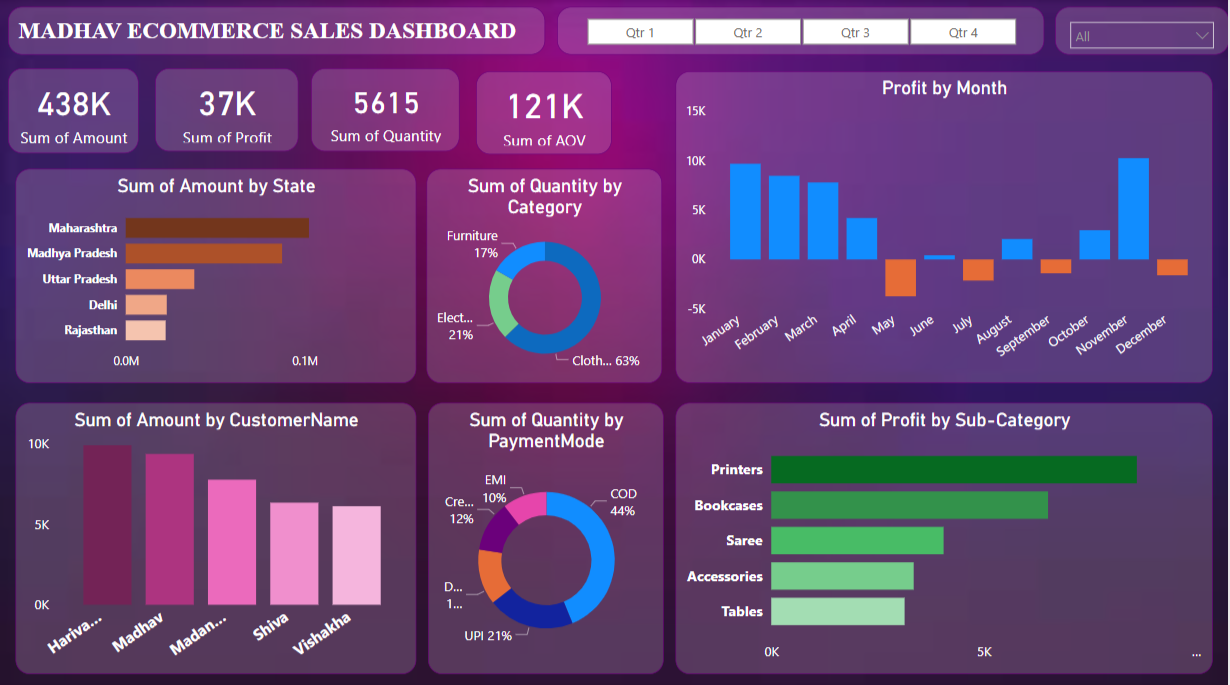

Layout of this report page (visuals, bound fields, positions):
{"tool":"powerbi","page":{"name":"Page 1","canvas":[1280,720],"ordinal":0},"visuals":[{"type":"textbox","box":[9.4,10.9,559.1,50],"z":0},{"type":"columnChart","title":"Profit by Month","fields":{"Category":["Orders_1.Order Date.Variation.Date Hierarchy.Month"],"Y":["Details.Profit"]},"box":[704.4,78.1,559.1,324.9],"z":1000},{"type":"barChart","fields":{"Category":["Details.Sub-Category"],"Y":["Details.Profit"]},"box":[704.4,423.3,559.1,282.7],"z":2000},{"type":"donutChart","fields":{"Category":["Details.Category"],"Y":["Details.Quantity"]},"box":[445.1,179.6,245.2,223.3],"z":3000},{"type":"donutChart","fields":{"Category":["Details.PaymentMode","Details.Category"],"Y":["Details.Quantity"]},"box":[446.7,423.3,245.2,282.7],"z":4000},{"type":"card","fields":{"Values":["Details.Amount"]},"box":[9.4,75.5,135.9,88.7],"z":5000},{"type":"card","fields":{"Values":["Details.Profit"]},"box":[162.4,75.5,149.1,86.8],"z":6000},{"type":"card","fields":{"Values":["Details.Quantity"]},"box":[324.7,75.5,154.8,86.8],"z":7000},{"type":"card","fields":{"Values":["Details.AOV"]},"box":[496.5,77.4,141.6,86.8],"z":8000},{"type":"barChart","fields":{"Y":["Details.Amount"],"Category":["Orders_1.State"]},"box":[17.2,179.6,417,223.3],"z":9000},{"type":"columnChart","fields":{"Category":["Orders_1.CustomerName"],"Y":["Details.Amount"]},"box":[17.2,423.3,417,282.7],"z":10000},{"type":"slicer","fields":{"Values":["Orders_1.Order Date.Variation.Date Hierarchy.Quarter"]},"box":[581,10.9,507.6,50],"z":11000},{"type":"slicer","fields":{"Values":["Orders_1.State"]},"box":[1099.5,10.9,181.2,50],"z":12000}]}

Visuals, with their boxes in screenshot pixels (x1, y1, x2, y2), scaled from the page's 1280x720 canvas onto the 1230x685 screenshot:
textbox: left=9, top=10, right=546, bottom=58
"Profit by Month" columnChart: left=677, top=74, right=1214, bottom=383
barChart - Details.Sub-Category x Details.Profit: left=677, top=403, right=1214, bottom=672
donutChart - Details.Category x Details.Quantity: left=428, top=171, right=663, bottom=383
donutChart - Details.PaymentMode x Details.Category: left=429, top=403, right=665, bottom=672
card - Details.Amount: left=9, top=72, right=140, bottom=156
card - Details.Profit: left=156, top=72, right=299, bottom=154
card - Details.Quantity: left=312, top=72, right=461, bottom=154
card - Details.AOV: left=477, top=74, right=613, bottom=156
barChart - Details.Amount x Orders_1.State: left=17, top=171, right=417, bottom=383
columnChart - Orders_1.CustomerName x Details.Amount: left=17, top=403, right=417, bottom=672
slicer - Orders_1.Order Date.Variation.Date Hierarchy.Quarter: left=558, top=10, right=1046, bottom=58
slicer - Orders_1.State: left=1057, top=10, right=1229, bottom=58
